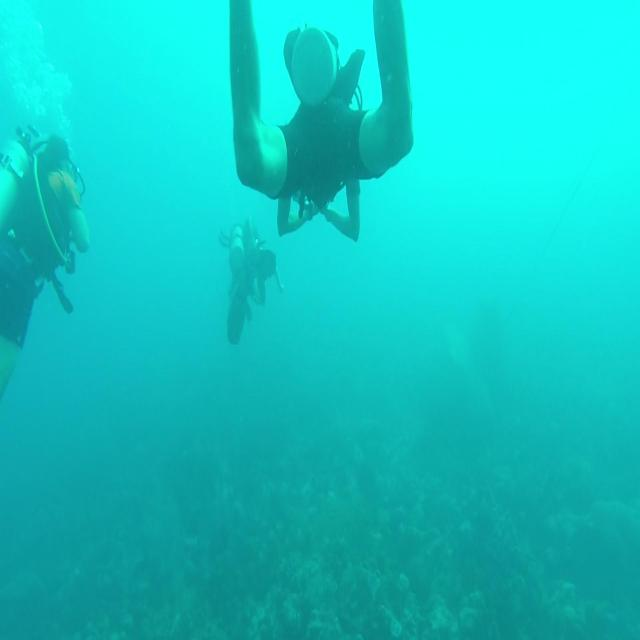human: (228, 0, 414, 242), (0, 122, 90, 400), (218, 214, 283, 345)
